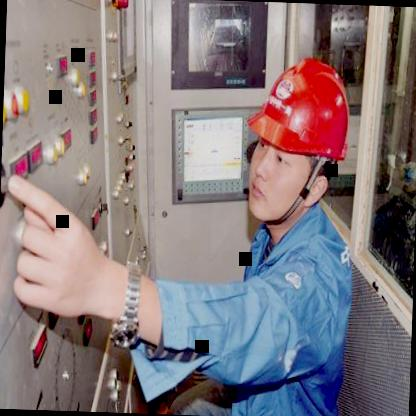helmet: (240, 51, 354, 226)
